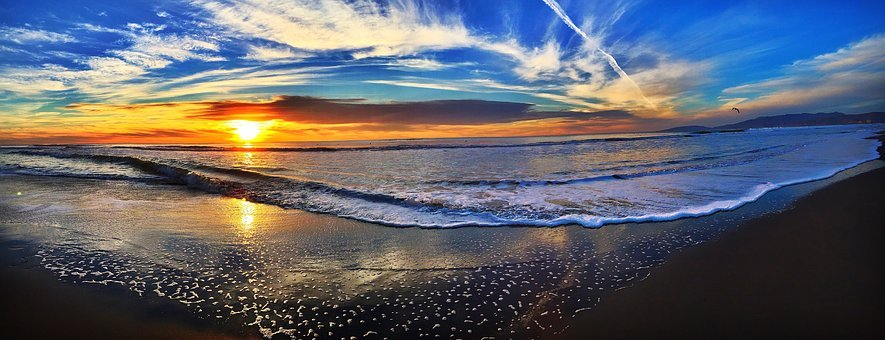beach: (7, 146, 885, 333)
sky: (1, 3, 875, 130)
